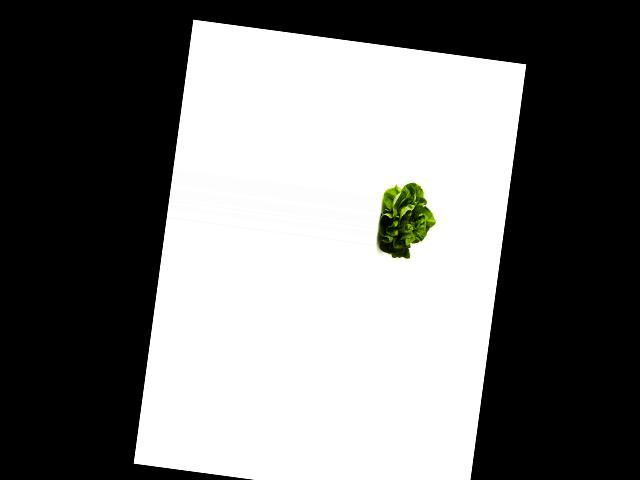lettuce: (374, 176, 439, 263)
